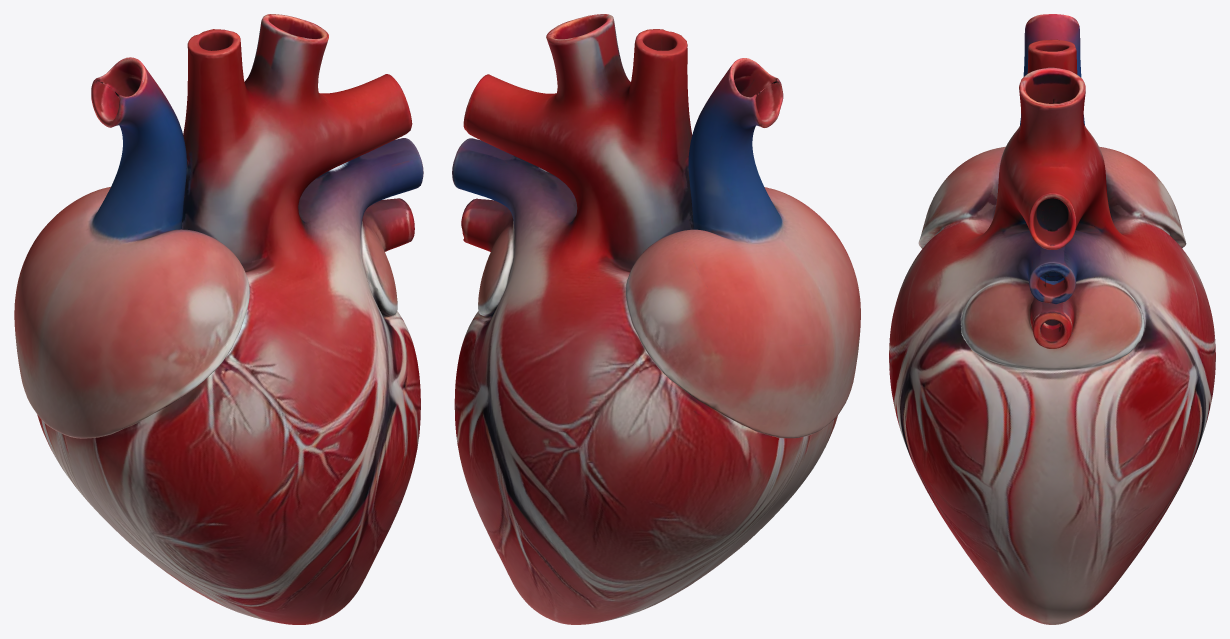
File: vet_v2_organ_cat_heart.glb
3 renders of one model, left to right at view 1: azimuth 30°, elevation 25°; view 2: azimuth 150°, elevation 25°; view 3: azimuth 270°, elevation 25°, orthographic. The views are drawn at different scales.
Parts seen in each view (by area): view 1: model; view 2: model; view 3: model.
Boxes of the visible parts, x1,y1,x2,y2 form: model: (14,14,423,624); model: (452,14,860,624); model: (889,14,1215,624).
Size of the model in its own units: 1.22 by 1.9 by 1.04.
1 material, 1 textured.
